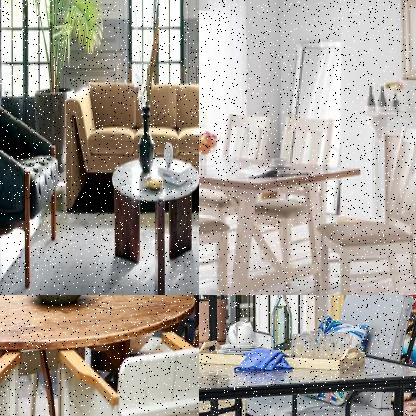table: (199, 144, 366, 294), (0, 295, 199, 415), (199, 318, 415, 415), (111, 145, 198, 294)
